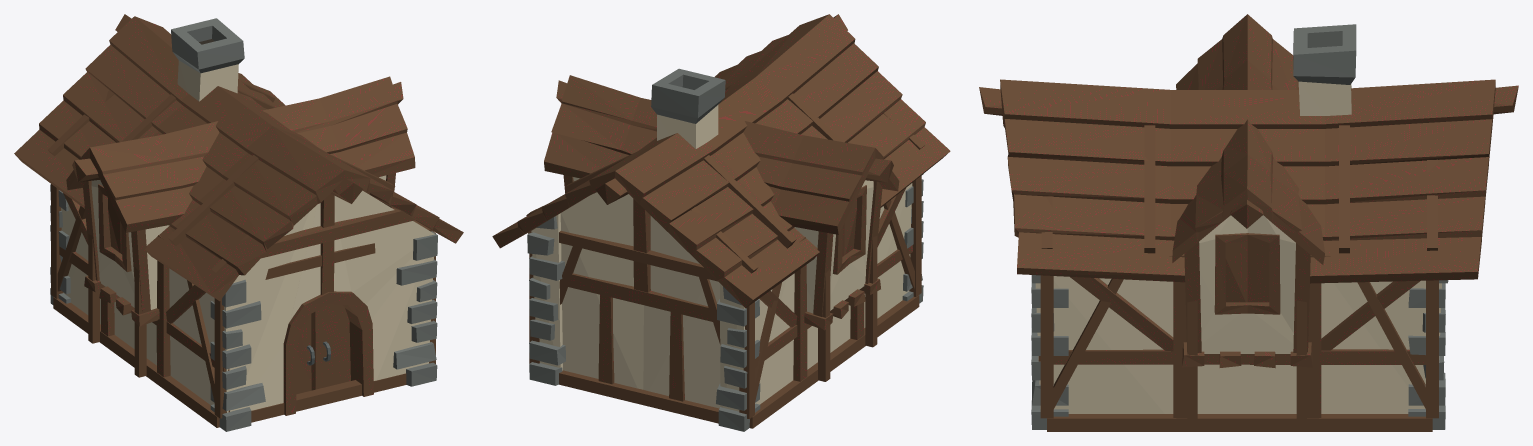
Rendered from Residence_Construction_RED.glb.
3 views of the same model, side by side, from view 1: azimuth 30°, elevation 25°; view 2: azimuth 150°, elevation 25°; view 3: azimuth 270°, elevation 25° (orthographic). The views are drawn at different scales.
Parts seen in each view (by area): view 1: Stage_04_Roofed, Stage_05_Complete, Stage_03_RoofFrame, Stage_02_FirstFloor, Stage_01_Foundation; view 2: Stage_04_Roofed, Stage_05_Complete, Stage_03_RoofFrame, Stage_02_FirstFloor, Stage_01_Foundation; view 3: Stage_04_Roofed, Stage_05_Complete, Stage_03_RoofFrame, Stage_02_FirstFloor, Stage_01_Foundation.
Part boxes in pixels (x1,y1,x2,y2): Stage_04_Roofed: [14, 16, 463, 301]; Stage_05_Complete: [50, 18, 437, 431]; Stage_03_RoofFrame: [47, 14, 433, 415]; Stage_02_FirstFloor: [51, 184, 435, 418]; Stage_01_Foundation: [53, 297, 406, 427]; Stage_04_Roofed: [492, 14, 950, 308]; Stage_05_Complete: [527, 68, 923, 431]; Stage_03_RoofFrame: [526, 14, 924, 401]; Stage_02_FirstFloor: [529, 175, 921, 418]; Stage_01_Foundation: [559, 295, 919, 428]; Stage_04_Roofed: [1000, 14, 1495, 283]; Stage_05_Complete: [1031, 24, 1448, 429]; Stage_03_RoofFrame: [979, 85, 1518, 428]; Stage_02_FirstFloor: [1040, 255, 1438, 418]; Stage_01_Foundation: [1047, 414, 1432, 431].
Size of the model in its own units: 6.05 by 4.99 by 7.35.
Materials: 1 (1 with a texture image).
